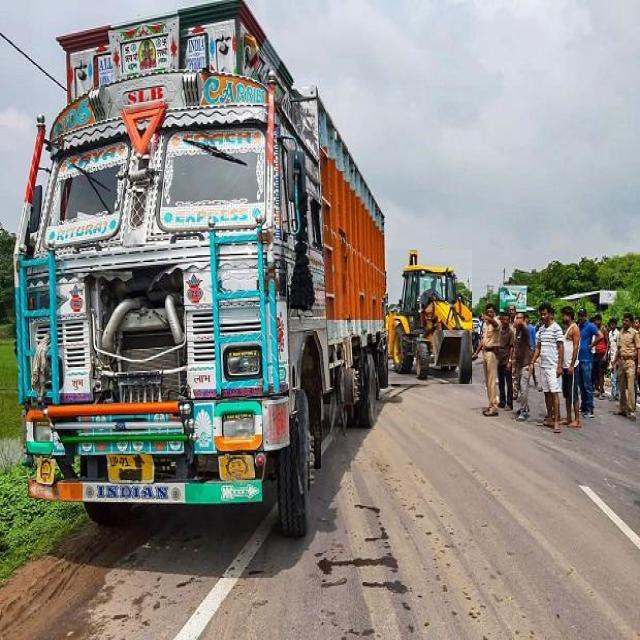truck: (14, 0, 388, 535), (388, 250, 472, 384)
